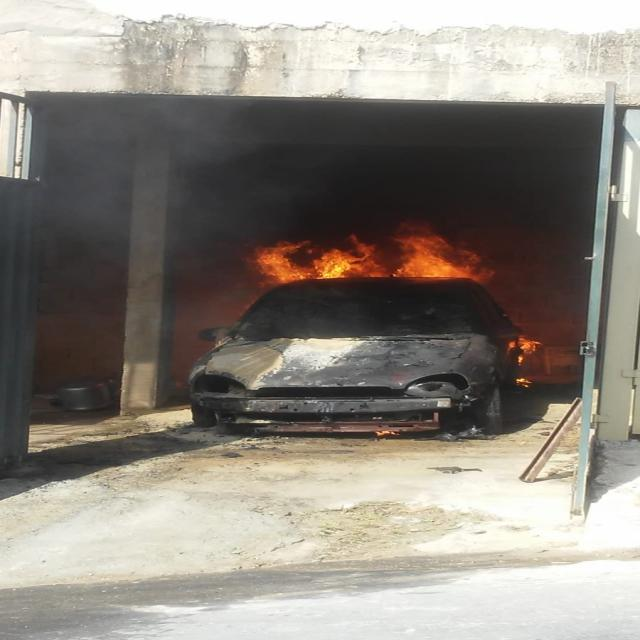fire: (254, 230, 496, 283)
